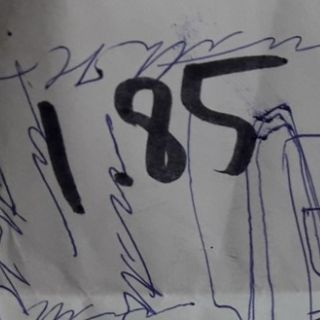.: (111, 168, 136, 191)
1: (36, 96, 88, 219)
5: (181, 52, 304, 182)
8: (111, 74, 191, 184)
